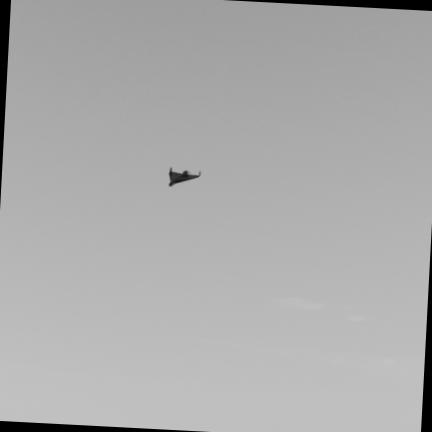Shahed: (170, 168, 201, 185)
